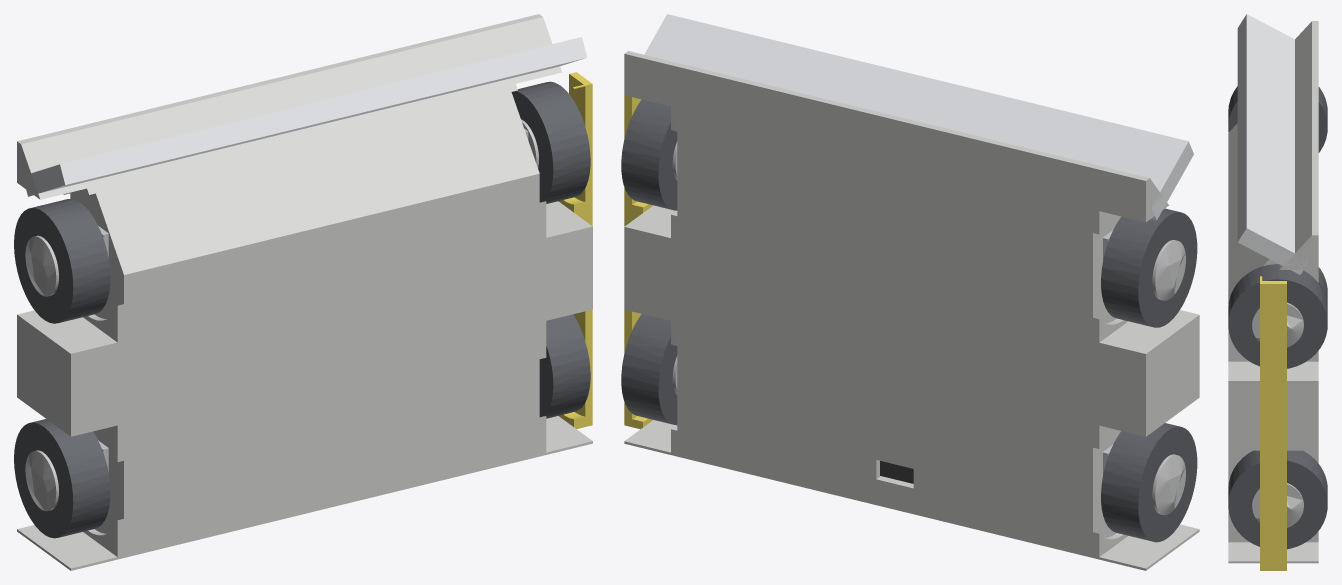
3 views of the same model, side by side, from view 1: azimuth 30°, elevation 25°; view 2: azimuth 150°, elevation 25°; view 3: azimuth 270°, elevation 25° (orthographic). The views are drawn at different scales.
Parts seen in each view (by area): view 1: chassis, front_plate, wheel_r1, wheel_r0, wheel_l1, wheel_l0, rail, dt_hub_wheel_r1, dt_hub_wheel_r0; view 2: chassis, front_plate, wheel_r0, wheel_r1, wheel_l0, wheel_l1, dt_hub_wheel_r0, dt_hub_wheel_r1, rail; view 3: chassis, front_plate, rail, wheel_l1, wheel_l0, wheel_r1, dt_hub_wheel_l0, dt_hub_wheel_l1, wheel_r0.
Boxes of the visible parts, box(x1,y1,x2,y2) form: chassis: box(17, 14, 592, 570); front_plate: box(23, 37, 587, 196); wheel_r1: box(14, 199, 110, 323); wheel_r0: box(14, 419, 110, 538); wheel_l1: box(511, 81, 590, 203); wheel_l0: box(539, 314, 590, 418); rail: box(558, 72, 592, 428); dt_hub_wheel_r1: box(25, 235, 58, 296); dt_hub_wheel_r0: box(25, 450, 58, 511); chassis: box(624, 51, 1199, 570); front_plate: box(644, 14, 1193, 220); wheel_r0: box(1101, 423, 1197, 542); wheel_r1: box(1101, 208, 1197, 327); wheel_l0: box(621, 314, 677, 425); wheel_l1: box(621, 99, 677, 210); dt_hub_wheel_r0: box(1152, 454, 1185, 515); dt_hub_wheel_r1: box(1152, 240, 1185, 300); rail: box(624, 95, 652, 429); chassis: box(1228, 21, 1318, 563); front_plate: box(1237, 14, 1308, 274); rail: box(1260, 276, 1286, 570); wheel_l1: box(1228, 264, 1327, 368); wheel_l0: box(1228, 450, 1327, 549); wheel_r1: box(1228, 86, 1327, 152); dt_hub_wheel_l0: box(1252, 483, 1303, 527); dt_hub_wheel_l1: box(1252, 302, 1303, 347); wheel_r0: box(1318, 267, 1327, 304).
Size of the model in its own units: 117 by 81.73 by 22.
